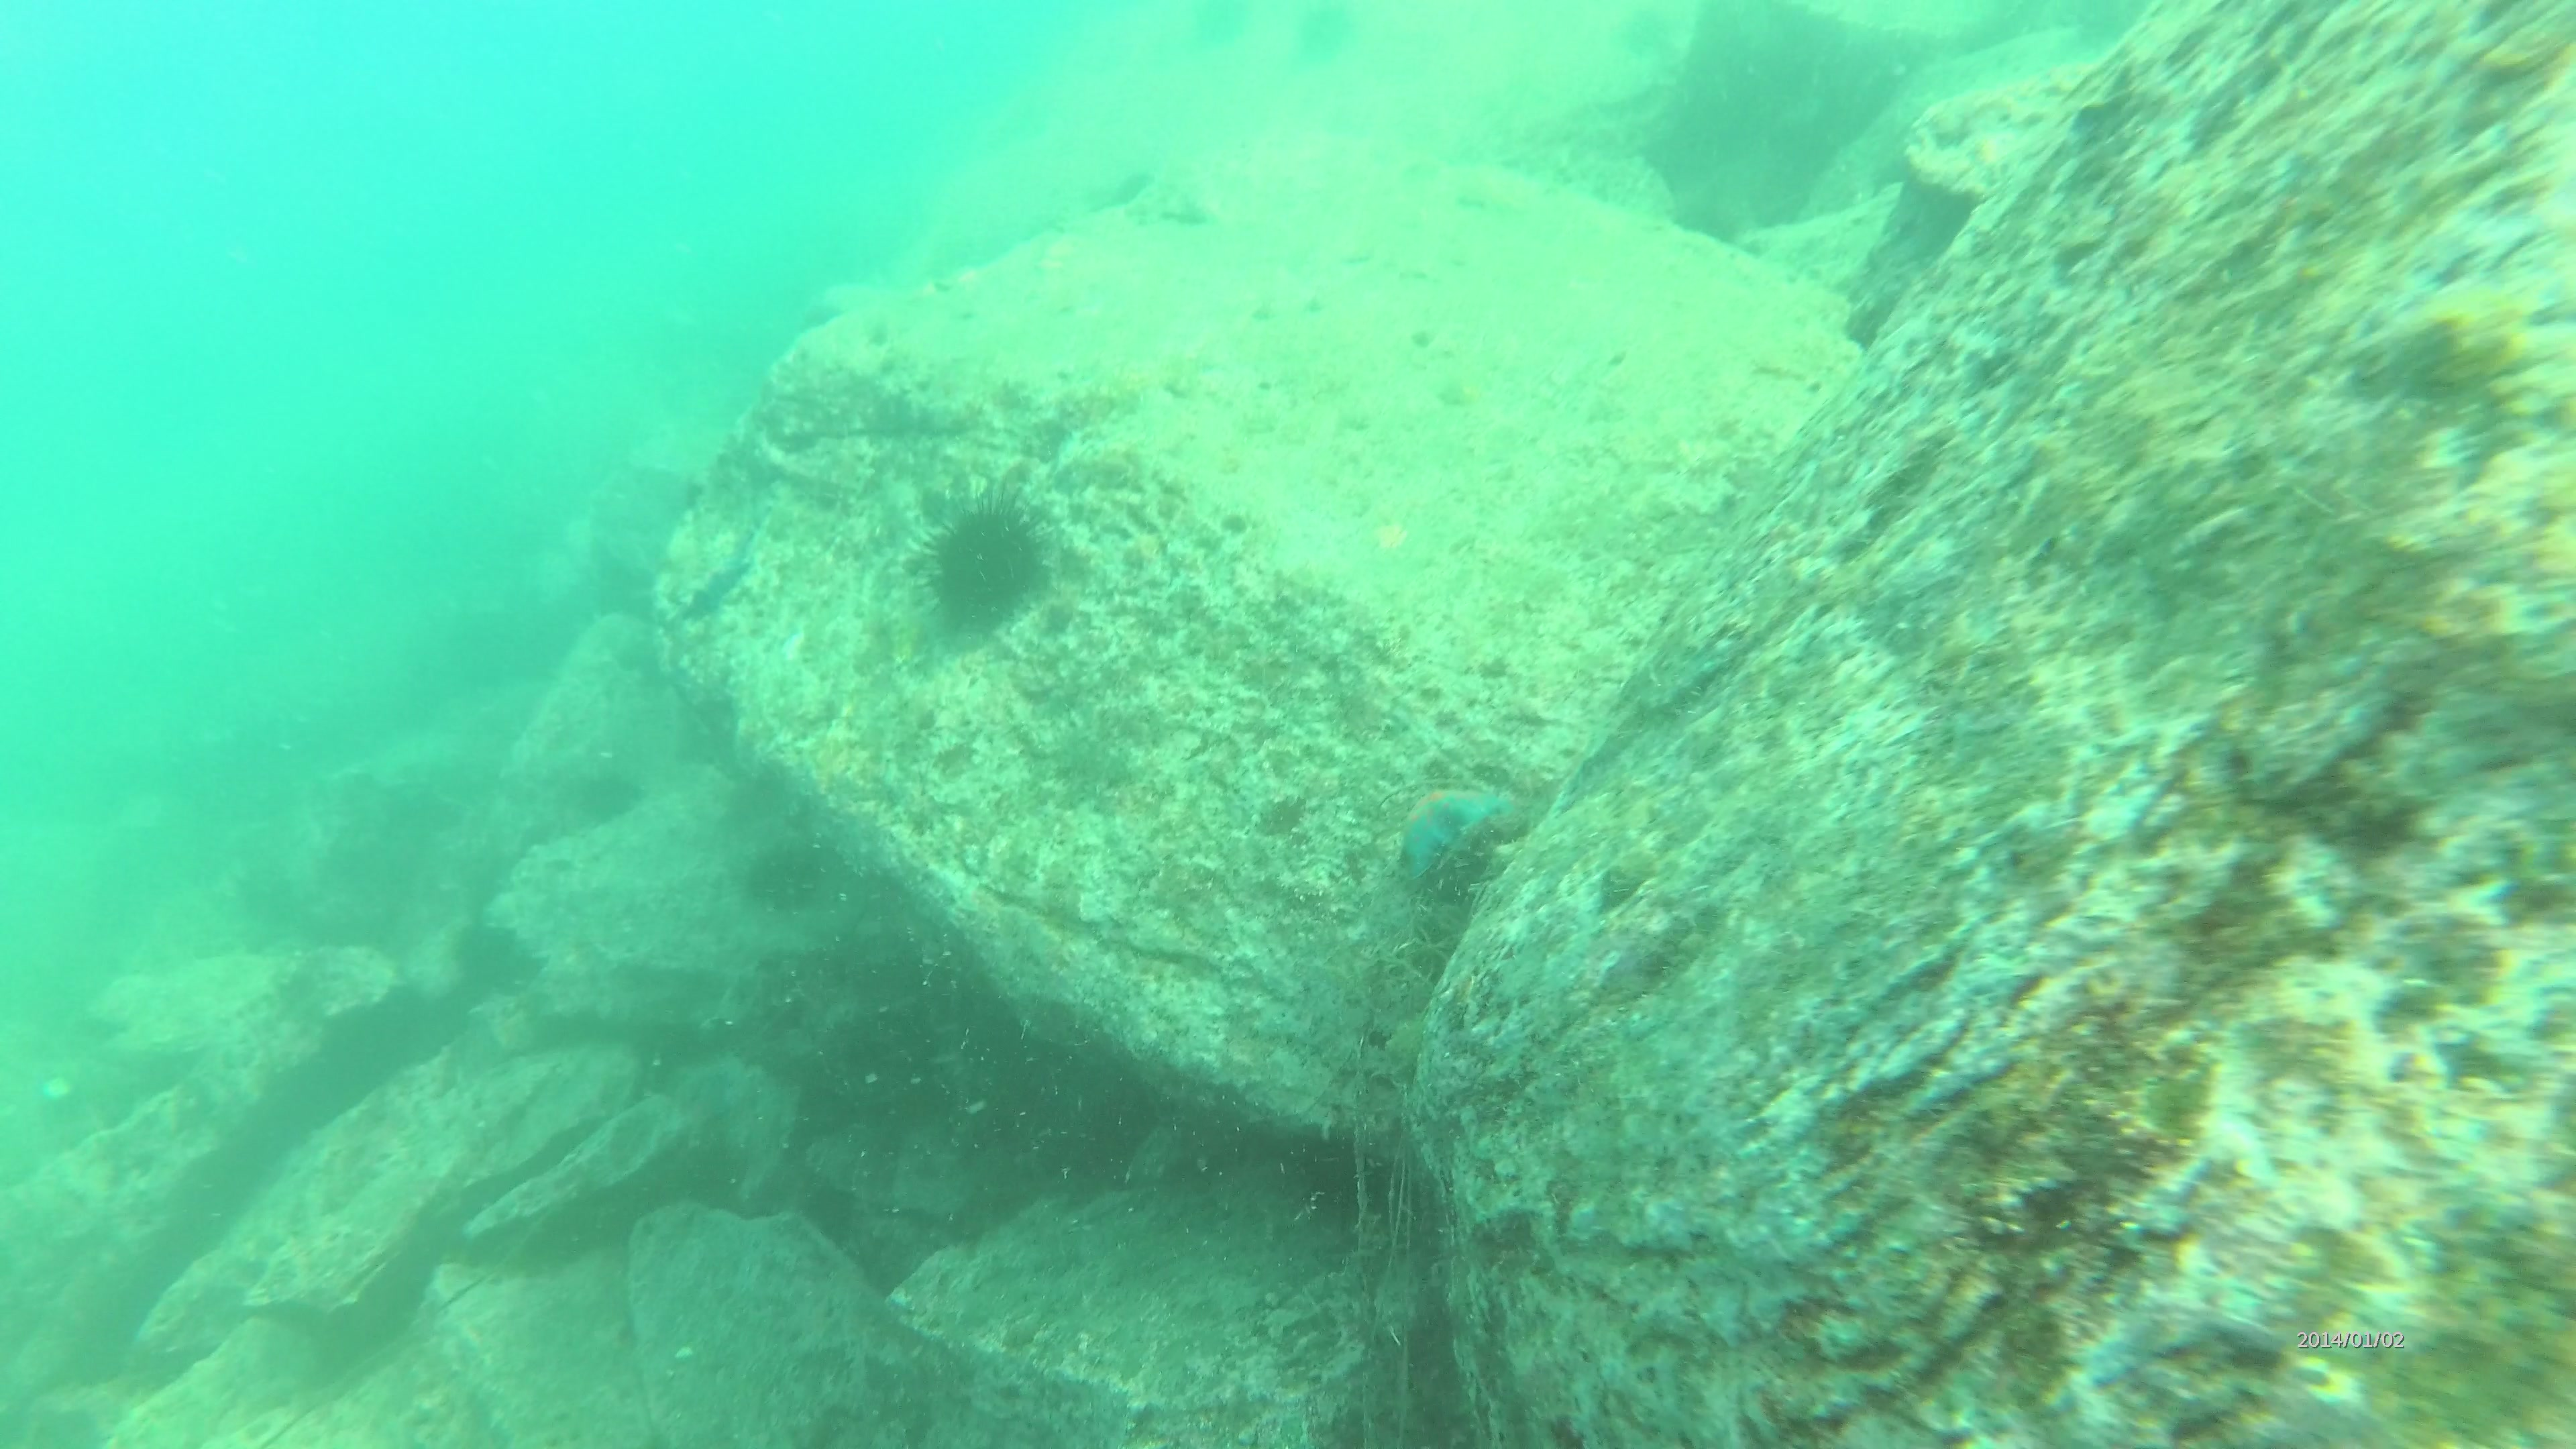echinus: (915, 478, 1053, 648), (446, 916, 545, 998), (738, 847, 830, 911)
starfish: (1387, 784, 1506, 883)
